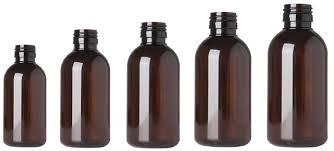Container for household chemicals: (253, 7, 334, 151), (126, 16, 190, 151), (197, 9, 247, 151), (59, 26, 116, 149), (0, 41, 46, 149)
